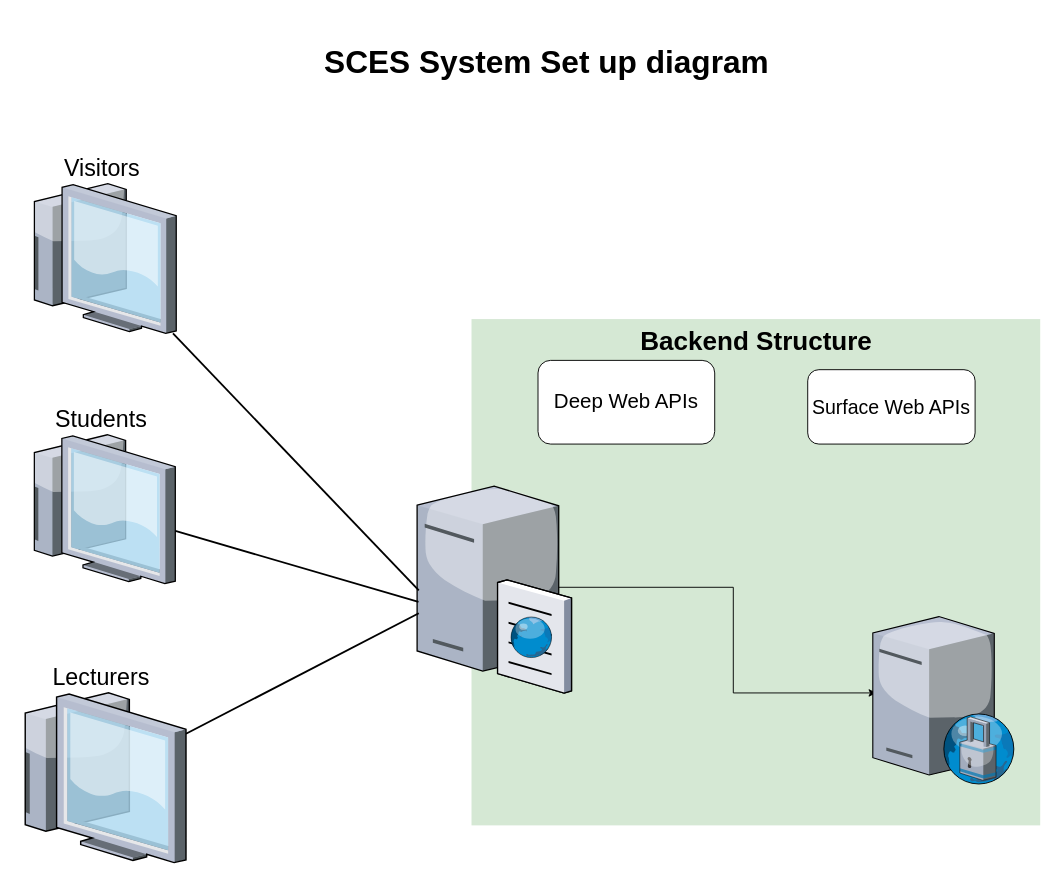
The diagram is 1056 pixels wide and 878 high, and some of its shapes have lost their labels. Each missing label, with the centre of its shape:
"Application Server" belongs at point (494, 586).
"Database server" belongs at point (943, 700).
